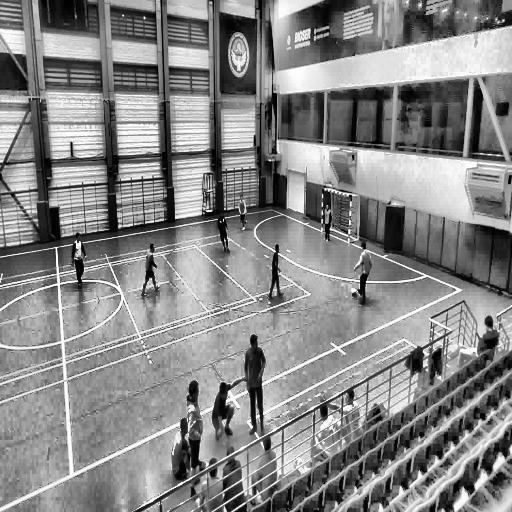ball: (351, 287, 357, 298)
player: (244, 333, 266, 436), (184, 380, 204, 480), (212, 381, 235, 446), (354, 243, 371, 306), (140, 242, 160, 295), (71, 233, 87, 287), (268, 244, 283, 300), (217, 212, 230, 253), (322, 202, 332, 244), (238, 197, 248, 230)
